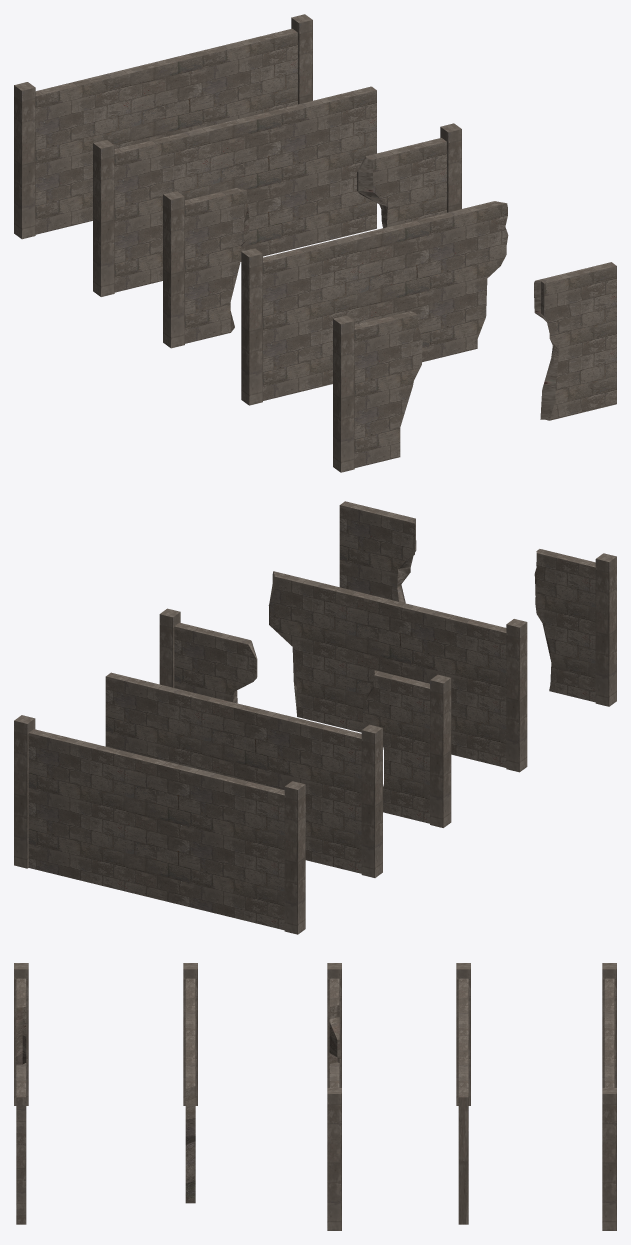
File: fences.fbx
The picture shows the model from 3 angles, top to bottom: view 1: azimuth 30°, elevation 25°; view 2: azimuth 150°, elevation 25°; view 3: azimuth 270°, elevation 25°; orthographic projection. The views are drawn at different scales.
Parts seen in each view (by area): view 1: Cube.004, Cube.008, Cube, Cube.002, Cube.005; view 2: Cube, Cube.008, Cube.004, Cube.002, Cube.005; view 3: Cube, Cube.005, Cube.004, Cube.002, Cube.008.
Part boxes in pixels (box(x1,y1,x2,y2)): Cube.004: box(93, 86, 376, 296); Cube.008: box(241, 201, 508, 405); Cube: box(14, 14, 312, 239); Cube.002: box(333, 262, 616, 472); Cube.005: box(163, 123, 461, 348); Cube: box(14, 715, 305, 934); Cube.008: box(268, 571, 527, 772); Cube.004: box(105, 672, 382, 877); Cube.002: box(339, 501, 616, 706); Cube.005: box(159, 608, 451, 827); Cube: box(602, 963, 616, 1230); Cube.005: box(327, 963, 341, 1230); Cube.004: box(456, 963, 470, 1224); Cube.002: box(14, 963, 28, 1224); Cube.008: box(183, 963, 197, 1203).
Bounding box in the file's own units: 441 × 215 × 857.
1 material, 1 textured.
